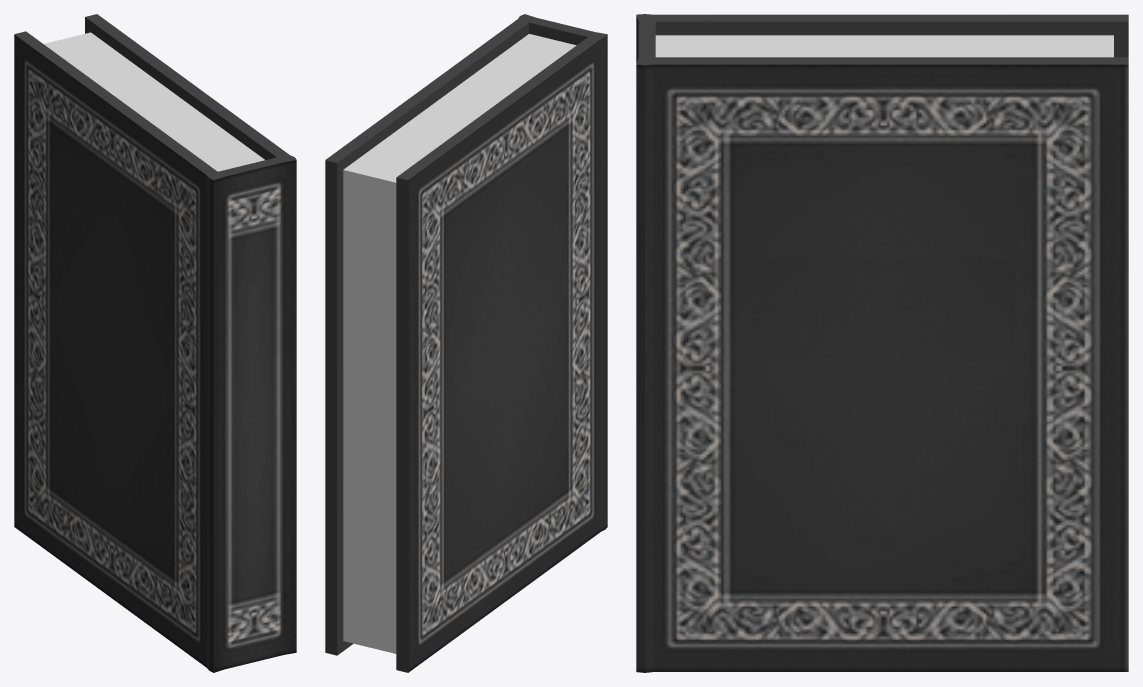
File: Book.fbx
3 views of the same model, side by side, from view 1: azimuth 30°, elevation 25°; view 2: azimuth 150°, elevation 25°; view 3: azimuth 270°, elevation 25° (orthographic). The views are drawn at different scales.
Visible parts, largest first — view 1: book, pages; view 2: book, pages; view 3: book, pages.
Boxes of the visible parts, left/top/right/bottom form: book: left=14, top=14, right=296, bottom=672; pages: left=44, top=32, right=264, bottom=171; book: left=325, top=14, right=607, bottom=672; pages: left=343, top=34, right=576, bottom=653; book: left=636, top=14, right=1128, bottom=672; pages: left=655, top=35, right=1113, bottom=57.
Bounding box in the file's own units: 5.63 × 30.95 × 22.73.
1 material, 1 textured.
